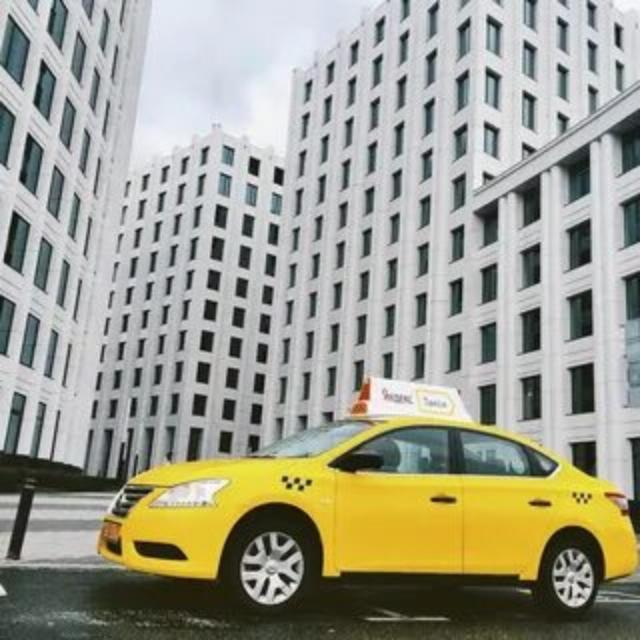taxi: (95, 375, 639, 619)
